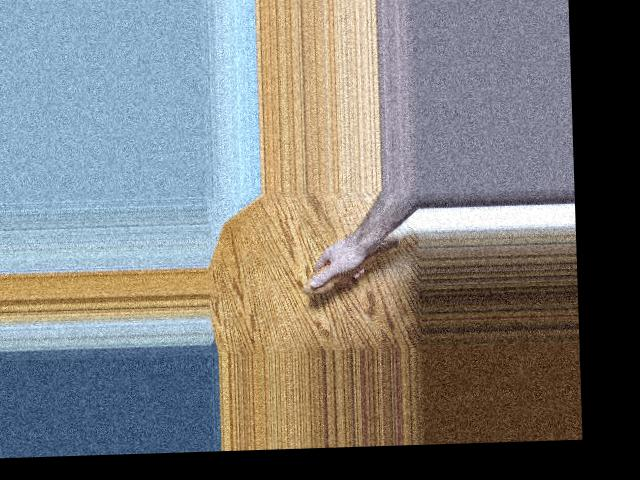sweet_potato: (299, 234, 417, 296)
